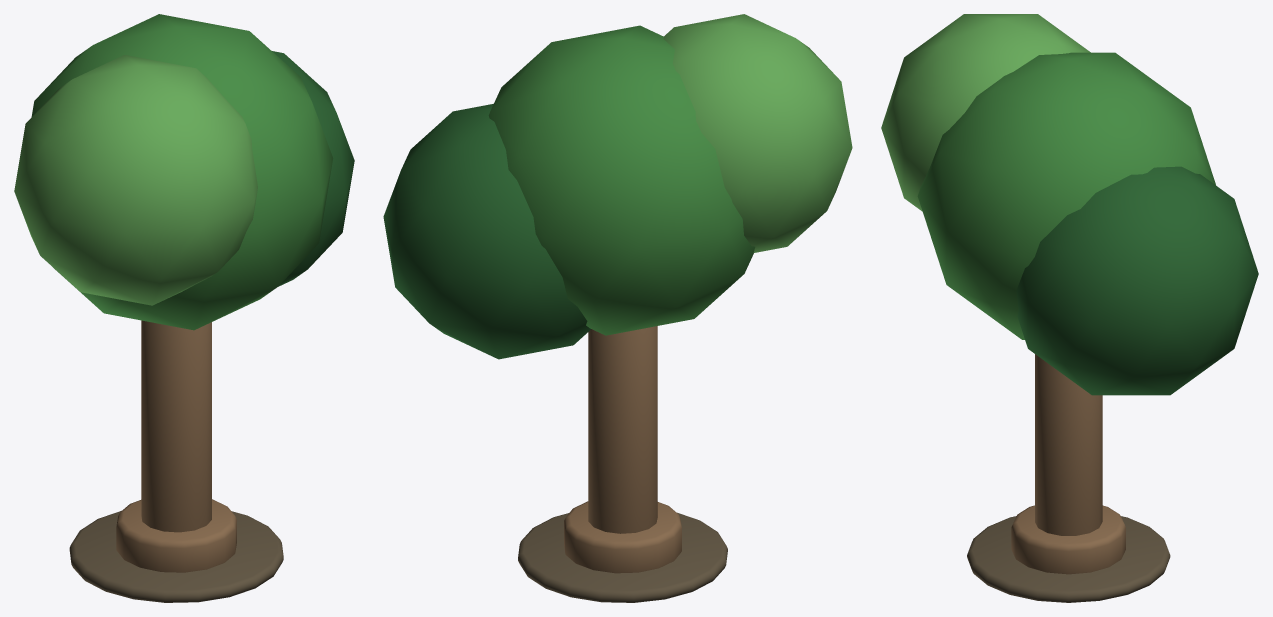
Rendered from canopy-tree.glb.
3 renders of one model, left to right at view 1: azimuth 30°, elevation 25°; view 2: azimuth 150°, elevation 25°; view 3: azimuth 270°, elevation 25°, orthographic. The views are drawn at different scales.
Parts seen in each view (by area): view 1: canopy tree foliage.001, canopy tree foliage, canopy tree trunk, canopy tree soil ring, canopy tree root flare, canopy tree foliage.002; view 2: canopy tree foliage, canopy tree foliage.002, canopy tree foliage.001, canopy tree trunk, canopy tree soil ring, canopy tree root flare; view 3: canopy tree foliage, canopy tree foliage.002, canopy tree foliage.001, canopy tree trunk, canopy tree soil ring, canopy tree root flare.
Boxes of the visible parts, x1=… form: canopy tree foliage.001: x1=14, y1=55, x2=257, y2=305; canopy tree foliage: x1=31, y1=14, x2=333, y2=330; canopy tree trunk: x1=141, y1=320, x2=211, y2=532; canopy tree soil ring: x1=69, y1=510, x2=283, y2=602; canopy tree root flare: x1=116, y1=499, x2=236, y2=572; canopy tree foliage.002: x1=272, y1=51, x2=354, y2=286; canopy tree foliage: x1=488, y1=25, x2=755, y2=335; canopy tree foliage.002: x1=383, y1=104, x2=591, y2=359; canopy tree foliage.001: x1=663, y1=14, x2=852, y2=252; canopy tree trunk: x1=588, y1=326, x2=657, y2=533; canopy tree soil ring: x1=518, y1=512, x2=727, y2=602; canopy tree root flare: x1=564, y1=501, x2=681, y2=573; canopy tree foliage: x1=917, y1=52, x2=1215, y2=339; canopy tree foliage.002: x1=1016, y1=166, x2=1258, y2=395; canopy tree foliage.001: x1=881, y1=14, x2=1090, y2=211; canopy tree trunk: x1=1035, y1=354, x2=1102, y2=535; canopy tree soil ring: x1=967, y1=516, x2=1170, y2=602; canopy tree root flare: x1=1011, y1=505, x2=1125, y2=574.
Bounding box in the file's own units: 3.09 × 4.31 × 2.9.
